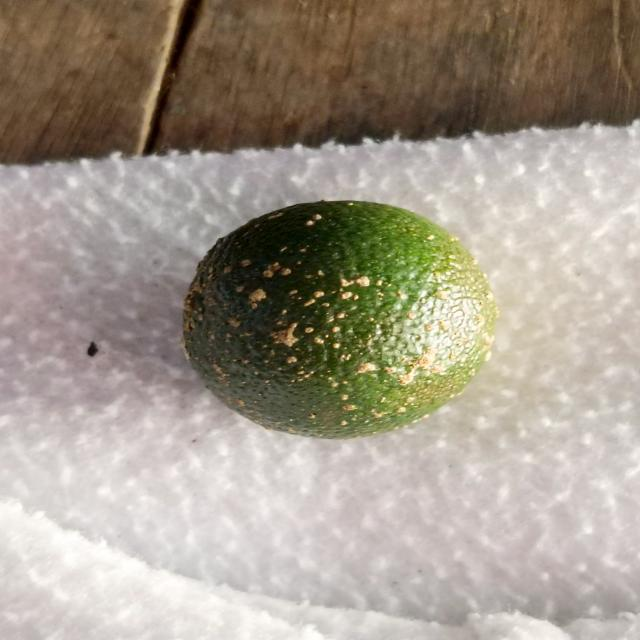scab: (182, 200, 502, 440)
